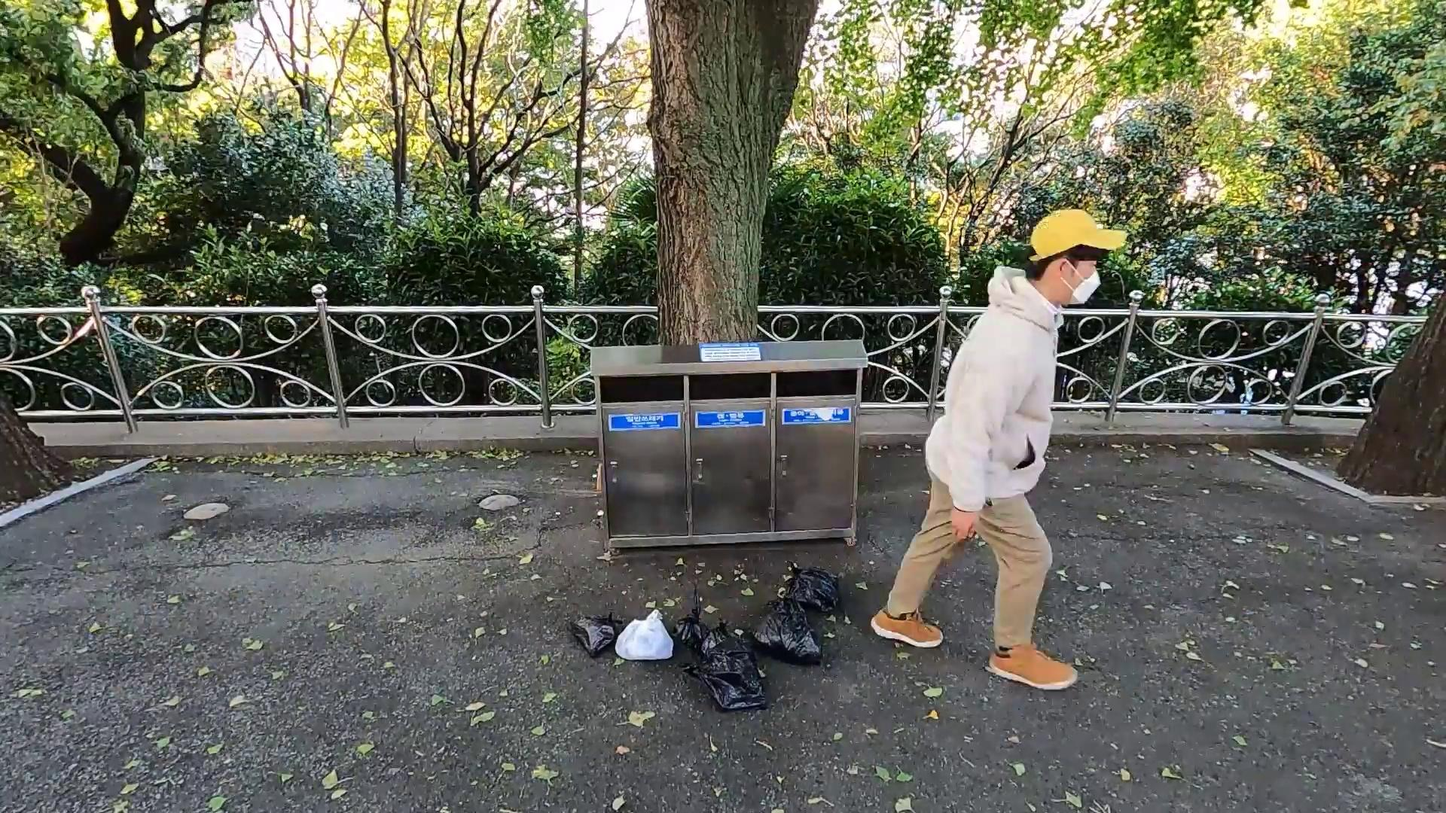person: (870, 205, 1132, 708)
trash: (568, 612, 627, 659)
